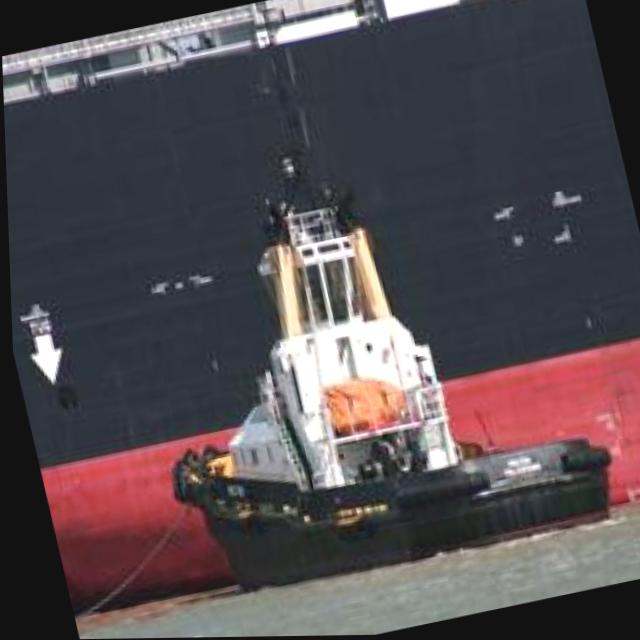ship2: (169, 160, 605, 593)
